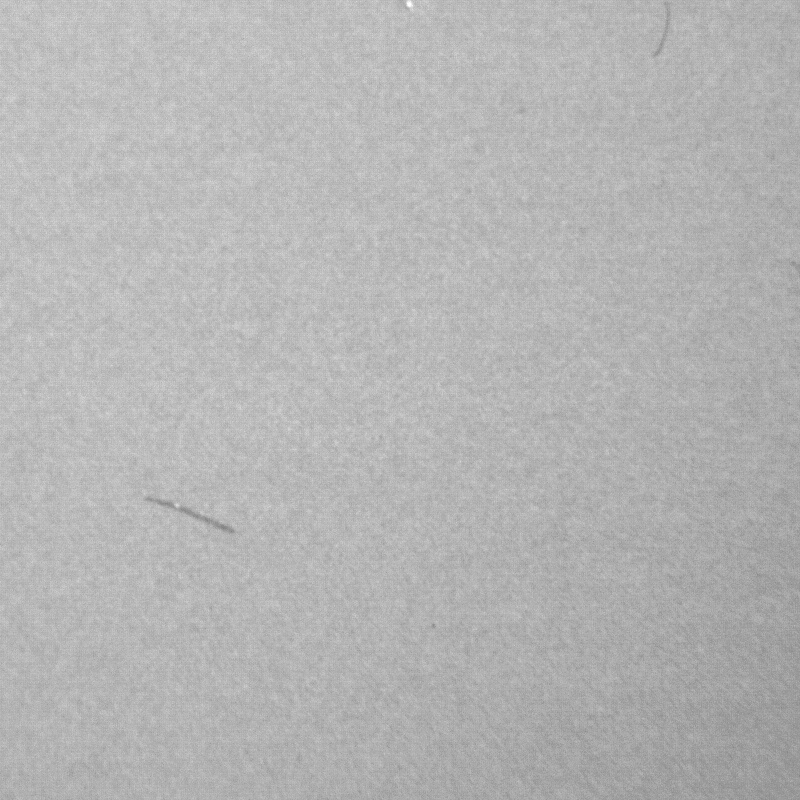defect: (147, 498, 240, 532), (658, 1, 671, 54), (404, 1, 417, 13)
